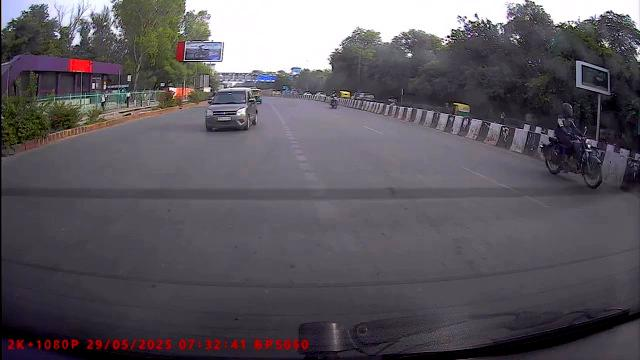motorcycle_with_helmet: (540, 101, 605, 189)
